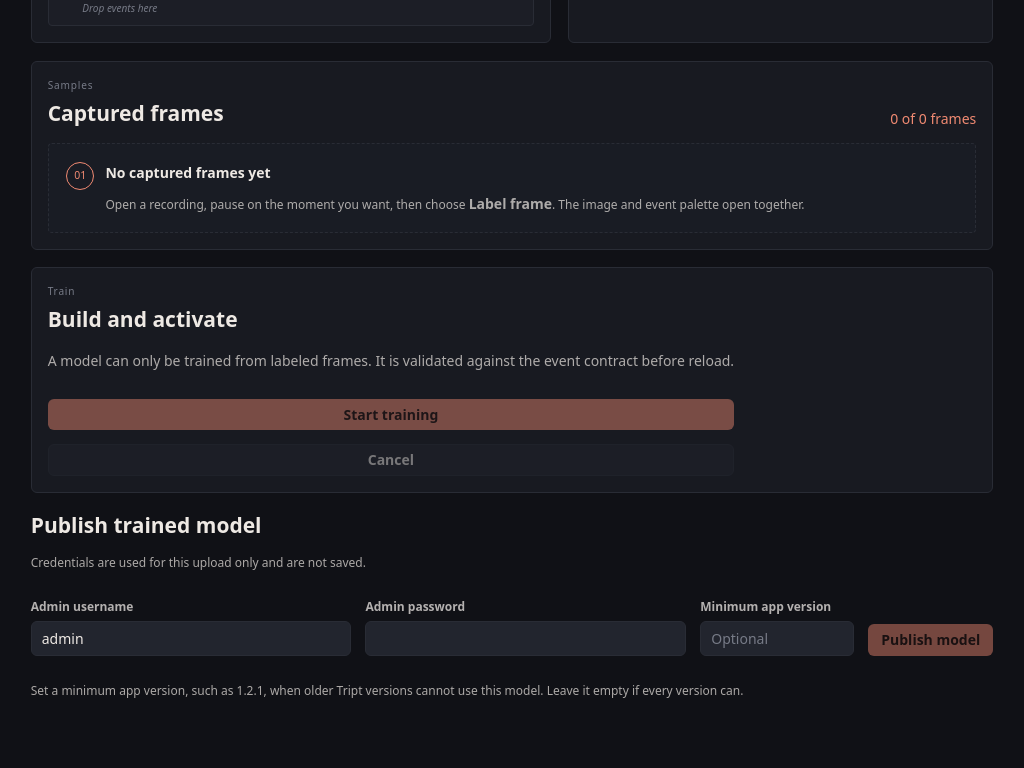
TrainingView sample gallery › publishes an installed model with ephemeral admin credentials
The width and height of the screenshot is (1024, 768).
(page scrolled)
Type "password-123" into the password field labelled "Admin password" at (526, 638), box [366,621,686,656]
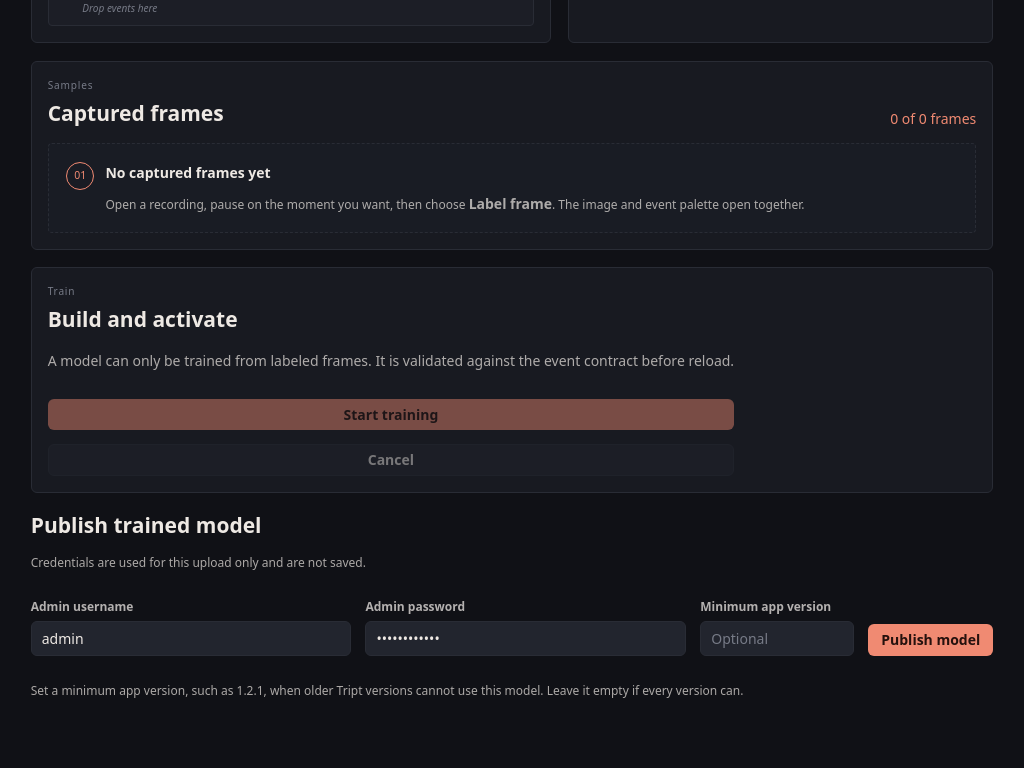
Click the button "Publish model" at (931, 640), box [868,624,993,656]
(page scrolled)
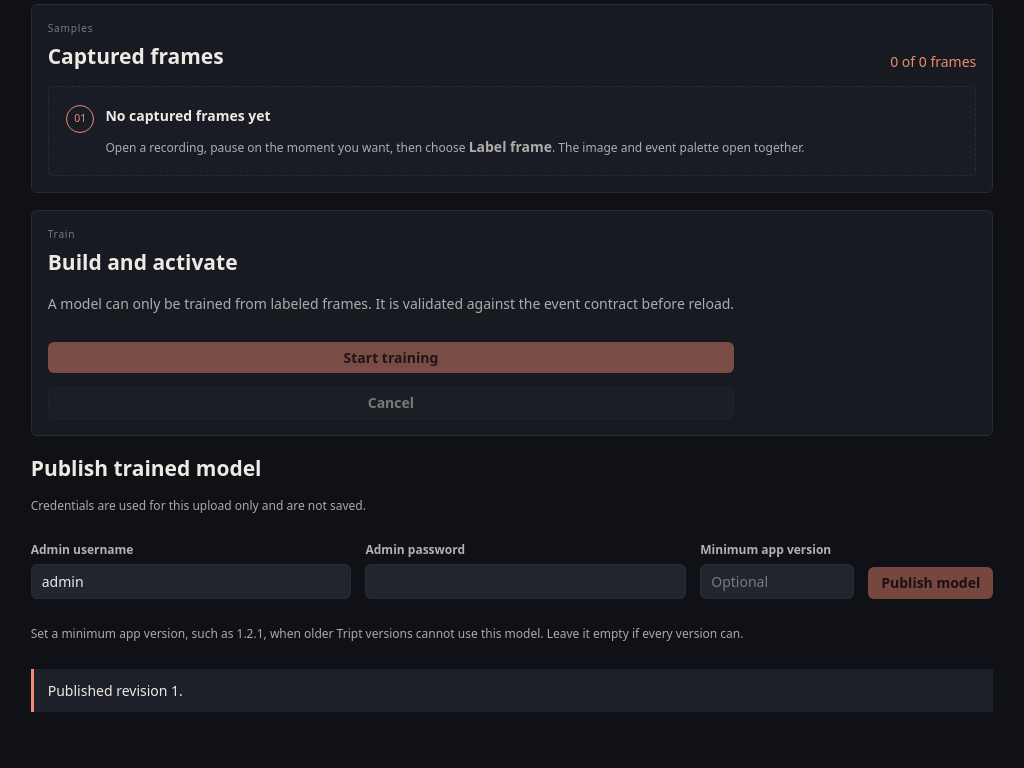
Check: the password field labelled "Admin password" is empty, box [366,564,686,599]
Check: the text "Published revision 1." is shown, box [31,669,993,712]
